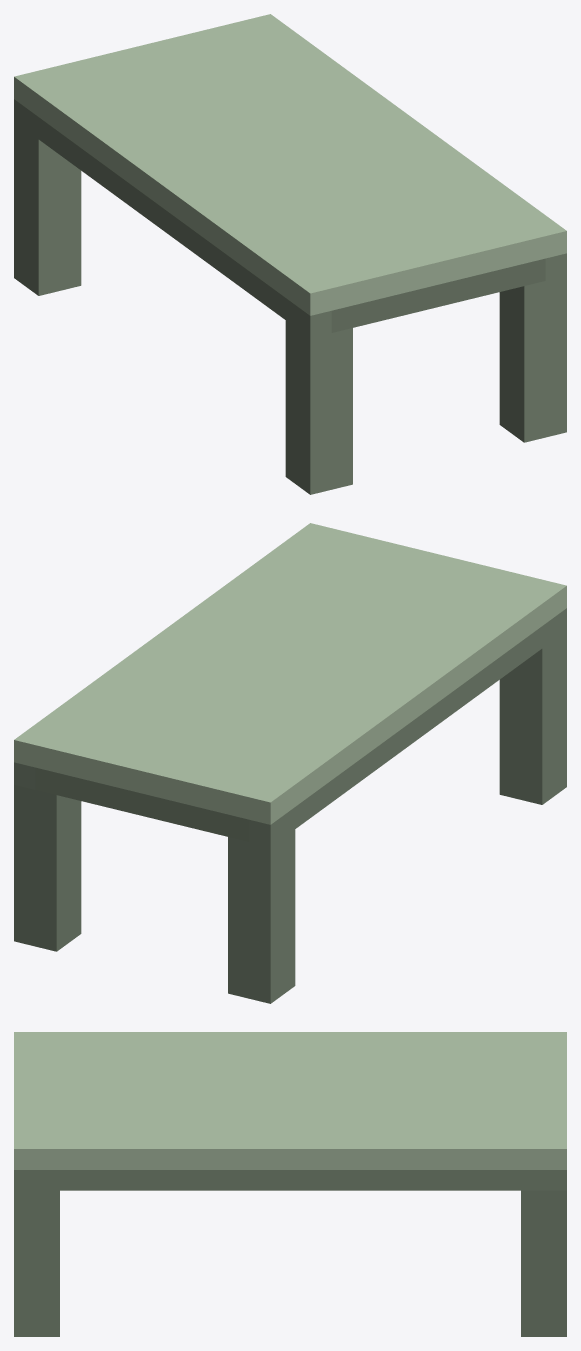
File: mesa_semillero_desgastada_01.glb
3 views of the same model, one above another, from view 1: azimuth 30°, elevation 25°; view 2: azimuth 150°, elevation 25°; view 3: azimuth 270°, elevation 25° (orthographic). The views are drawn at different scales.
Parts seen in each view (by area): view 1: mesa_semillero_desgastada; view 2: mesa_semillero_desgastada; view 3: mesa_semillero_desgastada.
Boxes of the visible parts, x1=… form: mesa_semillero_desgastada: x1=14, y1=14, x2=566, y2=494; mesa_semillero_desgastada: x1=14, y1=523, x2=566, y2=1003; mesa_semillero_desgastada: x1=14, y1=1032, x2=566, y2=1336.
Bounding box in the file's own units: 1 × 0.75 × 2.
